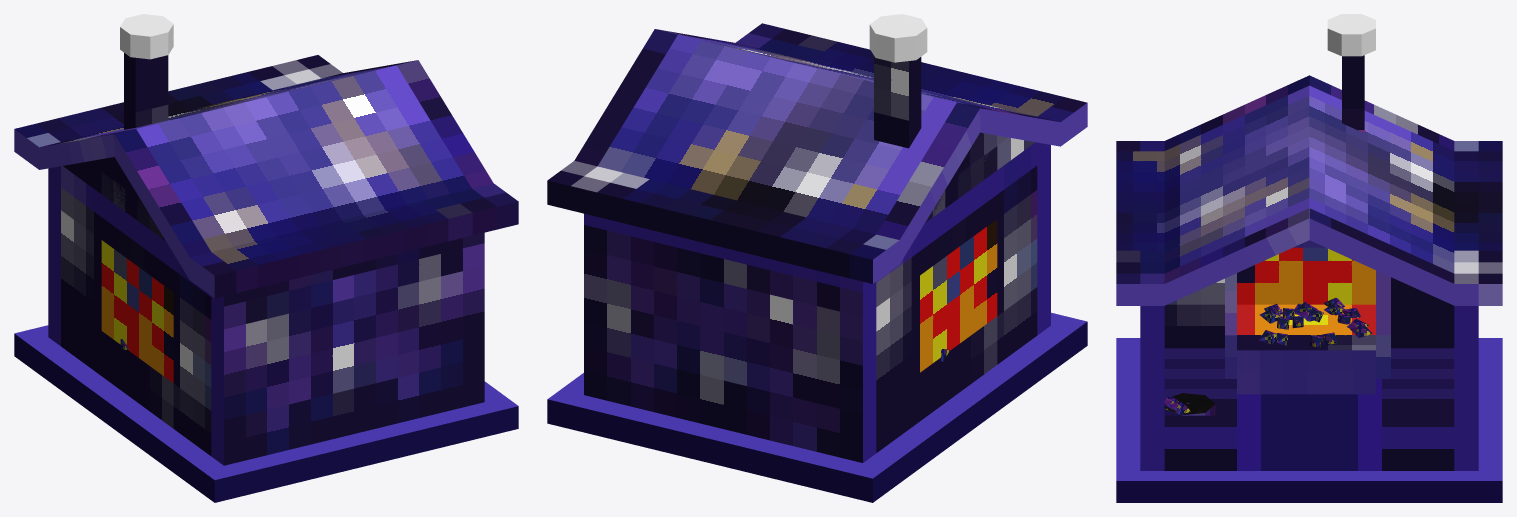
Rendered from CosmicForge.gltf.
3 views of the same model, side by side, from view 1: azimuth 30°, elevation 25°; view 2: azimuth 150°, elevation 25°; view 3: azimuth 270°, elevation 25° (orthographic). The views are drawn at different scales.
Parts seen in each view (by area): view 1: cube (×2), cylinder; view 2: cube (×2), cylinder; view 3: cube (×2), cylinder (×2), pyramids (×2).
Part boxes in pixels (x1,y1,x2,y2): cube (×2): (14,53,518,502); cylinder: (120,14,173,59); cube (×2): (547,23,1087,502); cylinder: (869,14,927,62); cube (×2): (1116,55,1502,502); cylinder (×2): (1164,14,1375,415); pyramids (×2): (1259,298,1372,347).
Size of the model in its own units: 0.875 by 1.03 by 1.
5 materials, 4 textured.
